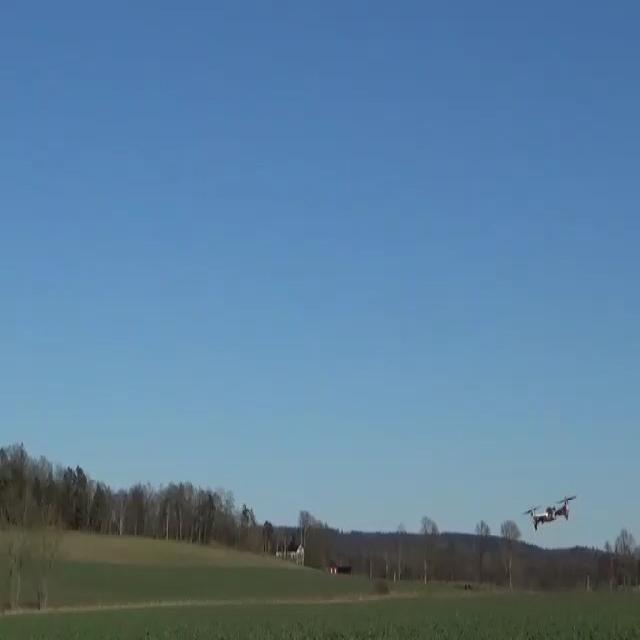drone: (524, 494, 577, 534)
